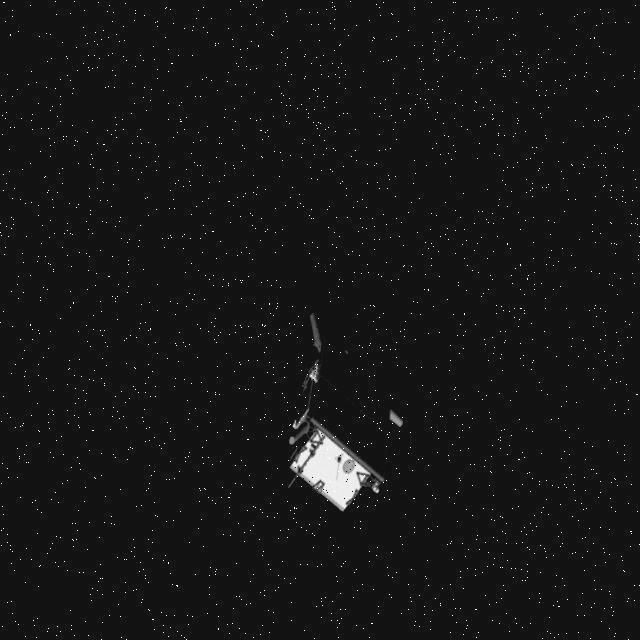satellite: (272, 314, 422, 514)
